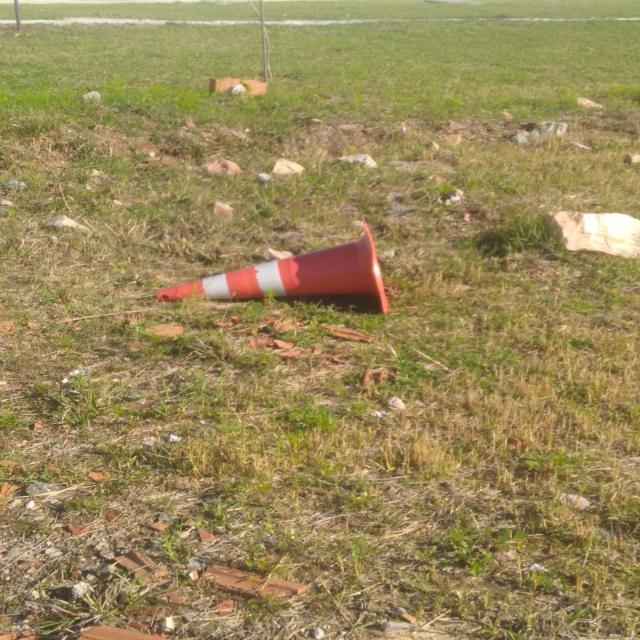cone: (154, 214, 390, 316)
